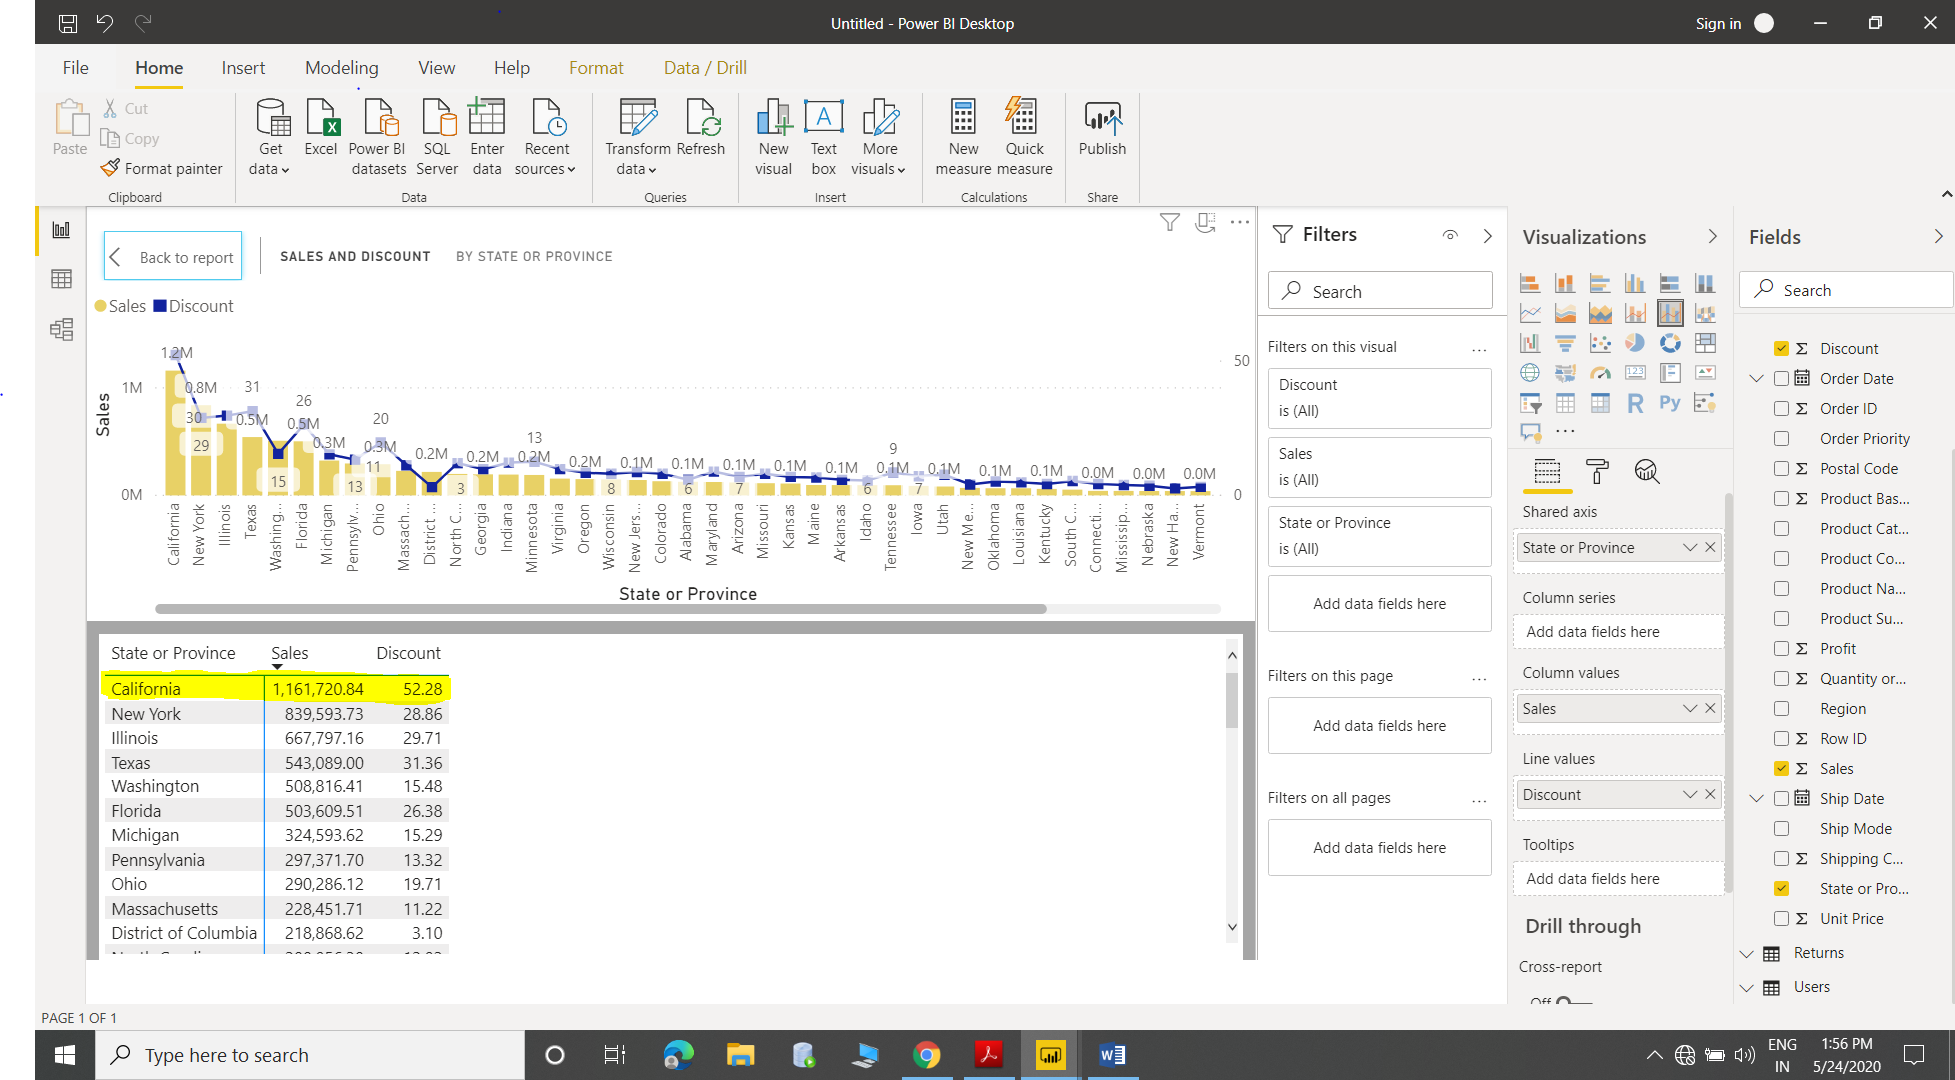

The dashboard page shown, as its layout file describes it:
{"tool":"powerbi","page":{"name":"Page 1","canvas":[1280,720],"ordinal":0},"visuals":[{"type":"donutChart","fields":{"Category":["Orders.Product Category"],"Y":["Sum(Orders.Sales)"]},"box":[0,359.7,867,361],"z":0},{"type":"lineClusteredColumnComboChart","fields":{"Category":["Orders.State or Province"],"Y2":["Sum(Orders.Discount)"],"Y":["Sum(Orders.Sales)"]},"box":[0,0,876.6,376.1],"z":1},{"type":"slicer","fields":{"Values":["Orders.Region"]},"box":[887.5,139.5,392.5,203.8],"z":2}]}

Visuals, with their boxes on the page's 1280x720 design canvas (x1, y1, x2, y2). These are canvas units, not pixel positions in the 1955x1080 screenshot, which may show the page scaled, cropped or inside an application window:
donutChart - Orders.Product Category x Sum(Orders.Sales): <bbox>0, 360, 867, 721</bbox>
lineClusteredColumnComboChart - Orders.State or Province x Sum(Orders.Discount): <bbox>0, 0, 877, 376</bbox>
slicer - Orders.Region: <bbox>888, 140, 1280, 343</bbox>
